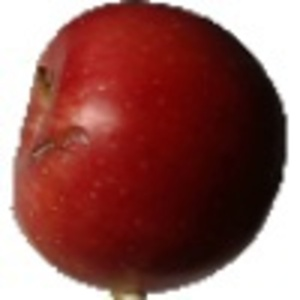maçã braeburn: (10, 1, 288, 294)
